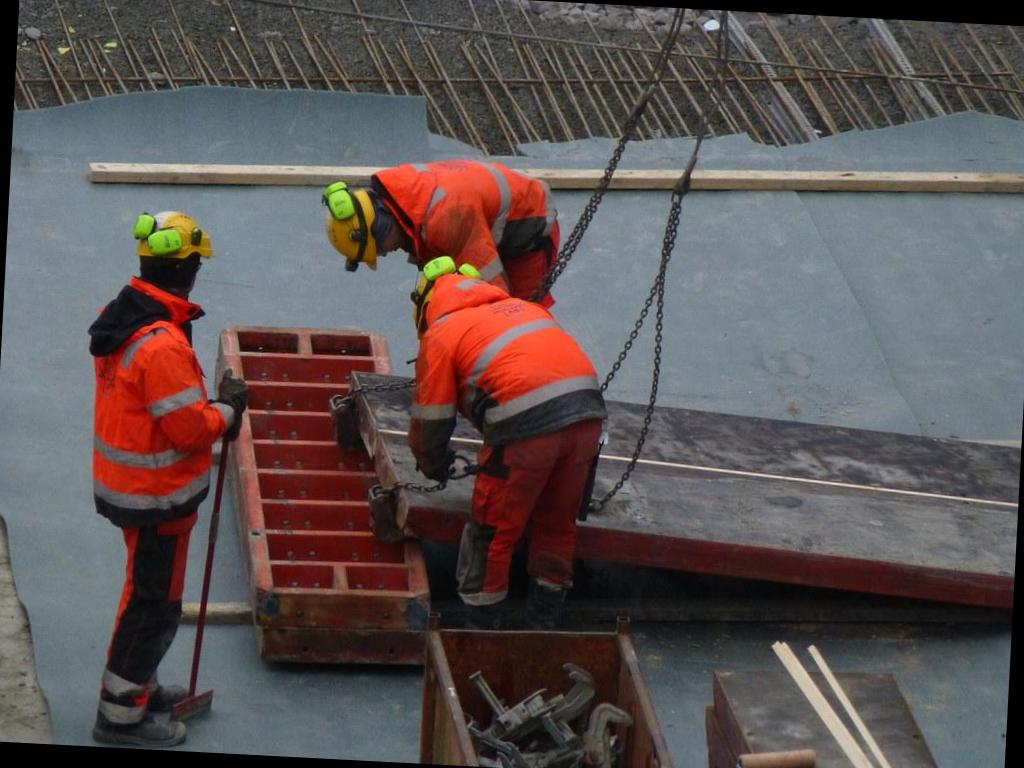Vest: (66, 302, 230, 584), (418, 272, 610, 420)
